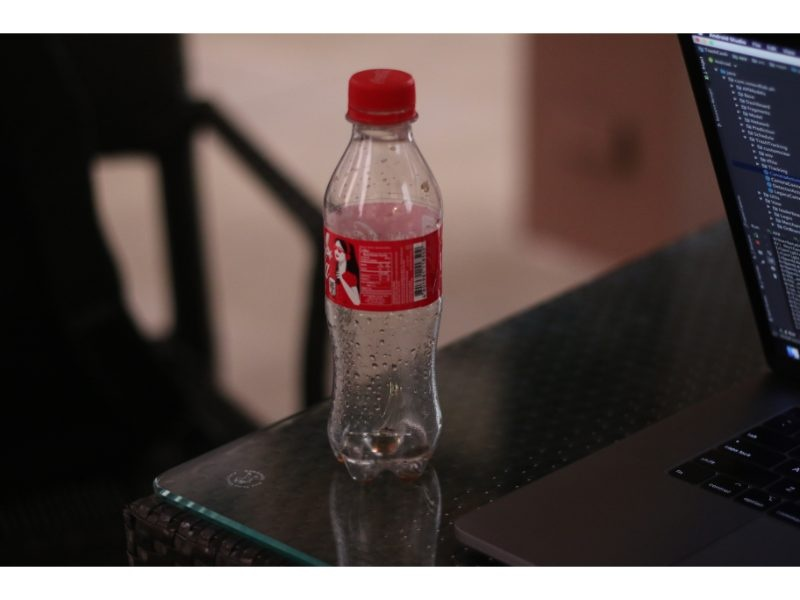PET #1: (321, 58, 447, 490)
